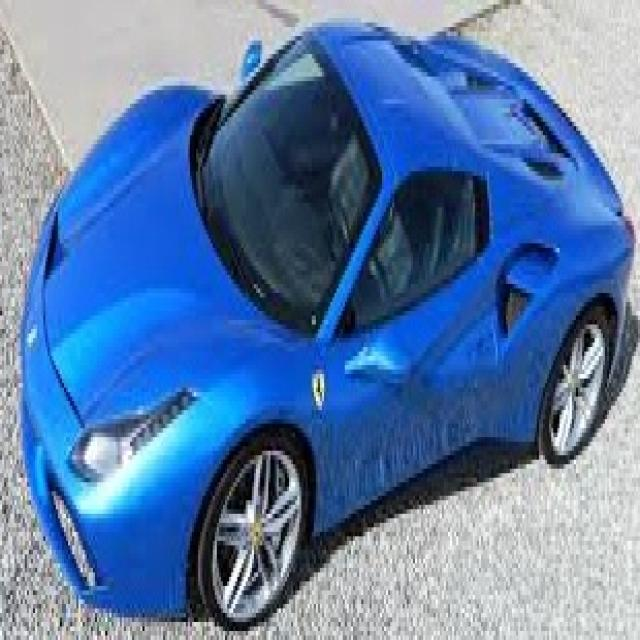blue: (22, 22, 638, 622)
